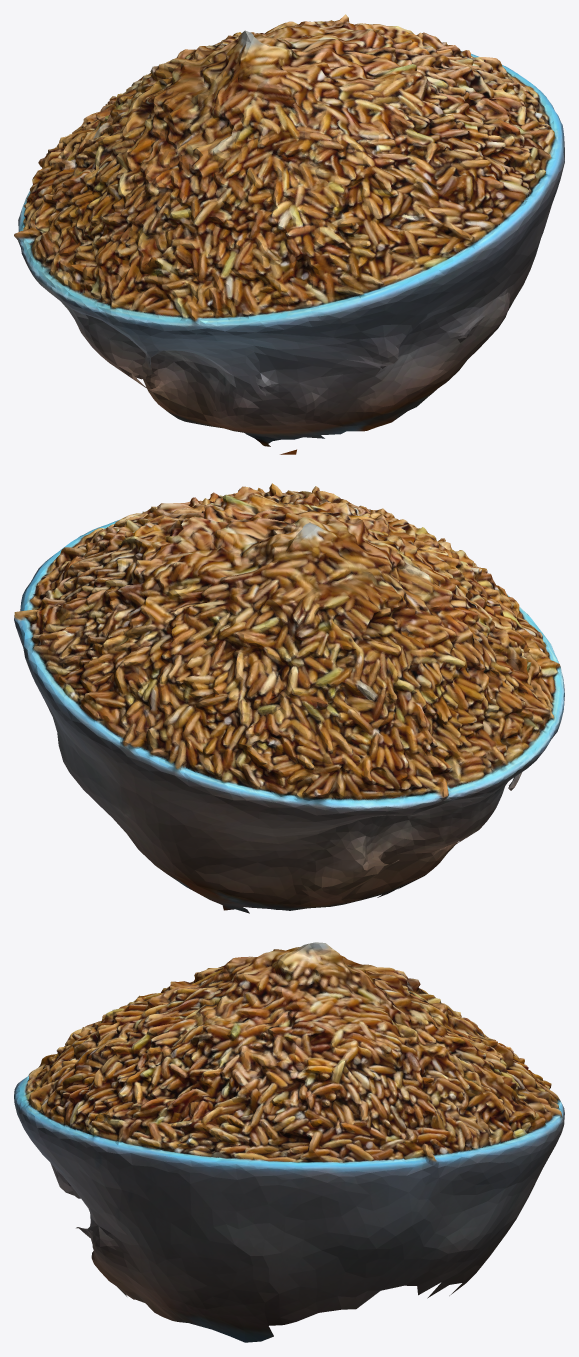
File: asset.glb
The picture shows the model from 3 angles, top to bottom: view 1: azimuth 30°, elevation 25°; view 2: azimuth 150°, elevation 25°; view 3: azimuth 270°, elevation 25°; orthographic projection.
Parts seen in each view (by area): view 1: Mesh_0; view 2: Mesh_0; view 3: Mesh_0.
Part boxes in pixels (bbox=[...]): Mesh_0: bbox=[14, 14, 564, 454]; Mesh_0: bbox=[14, 483, 564, 913]; Mesh_0: bbox=[14, 942, 564, 1342].
Bounding box in the file's own units: 0.1116 × 0.0849 × 0.1134.
1 material, 1 textured.
